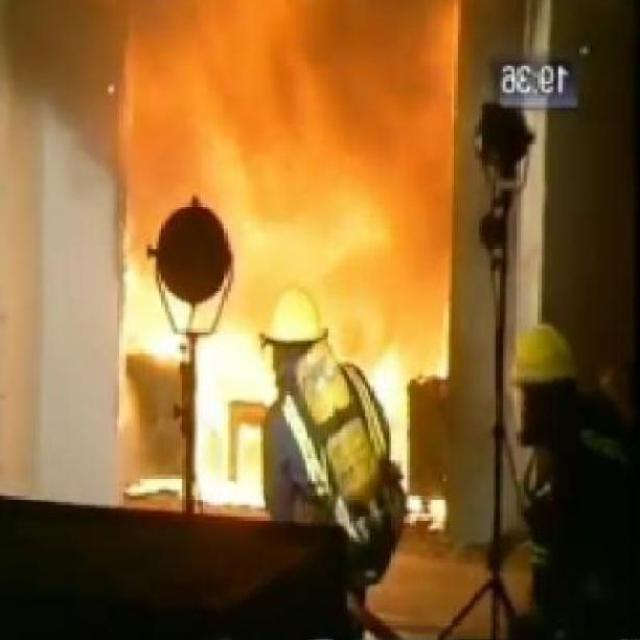smoke: (100, 0, 501, 532)
